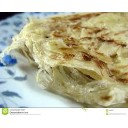parota: (24, 16, 128, 106)
